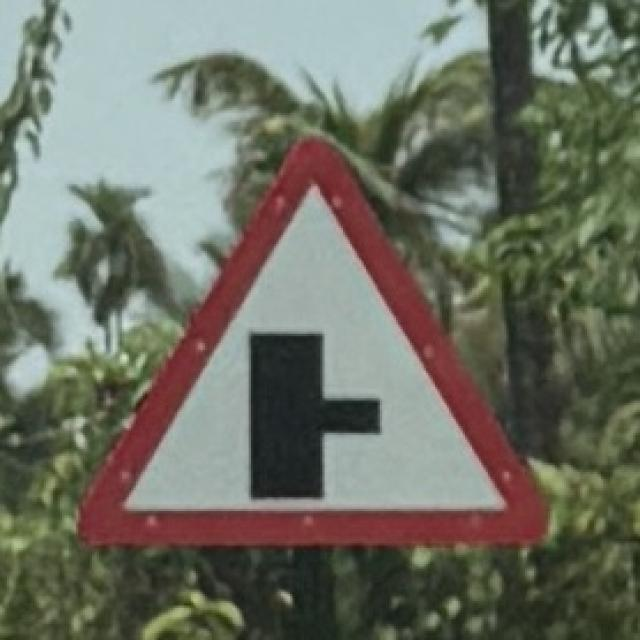SIDE_ROAD_RIGHT: (55, 125, 558, 562)
